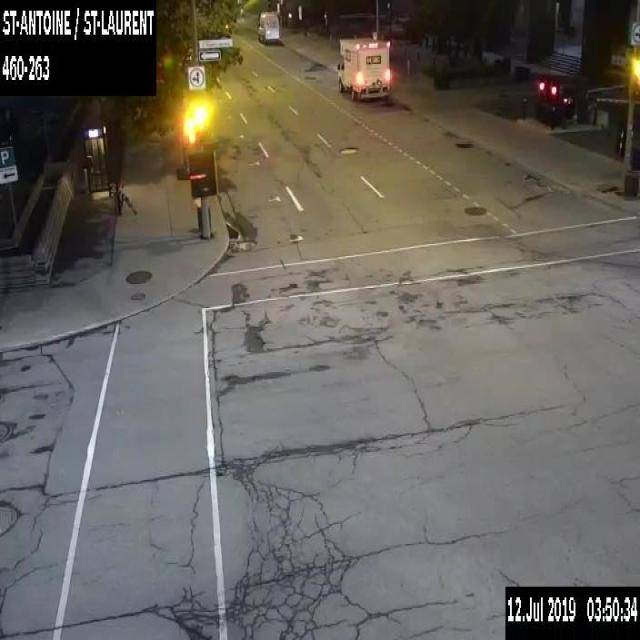vehicle: (337, 36, 390, 100), (256, 9, 280, 44)
